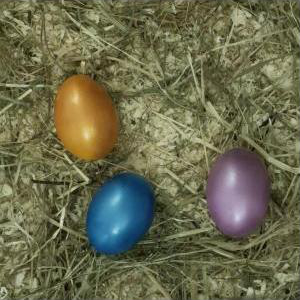egg: (207, 149, 268, 241), (87, 174, 155, 253), (56, 76, 119, 161)
